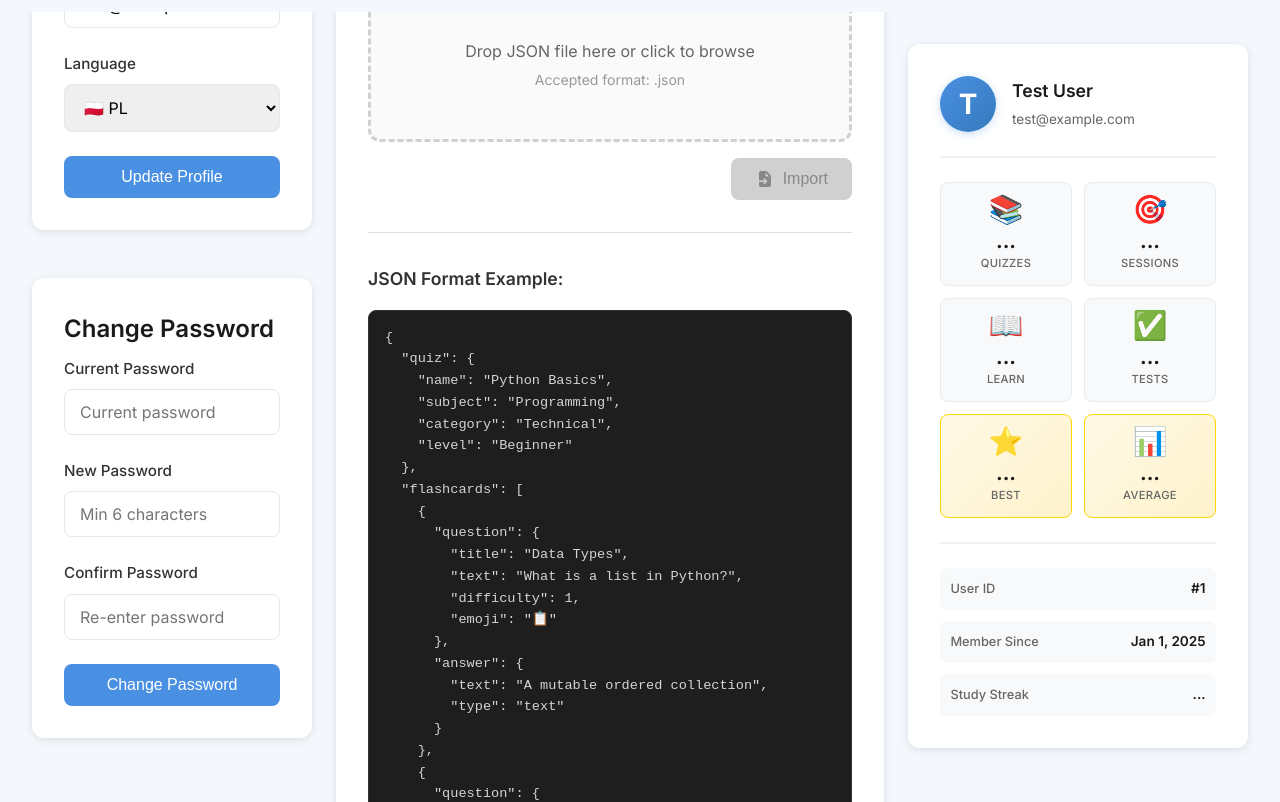
Test case: SettingsPage › validates password confirmation match
(page scrolled)
Type "old123" into the password field labelled "Current Password" at {"x": 172, "y": 412}, box x1=64 y1=389 x2=280 y2=435
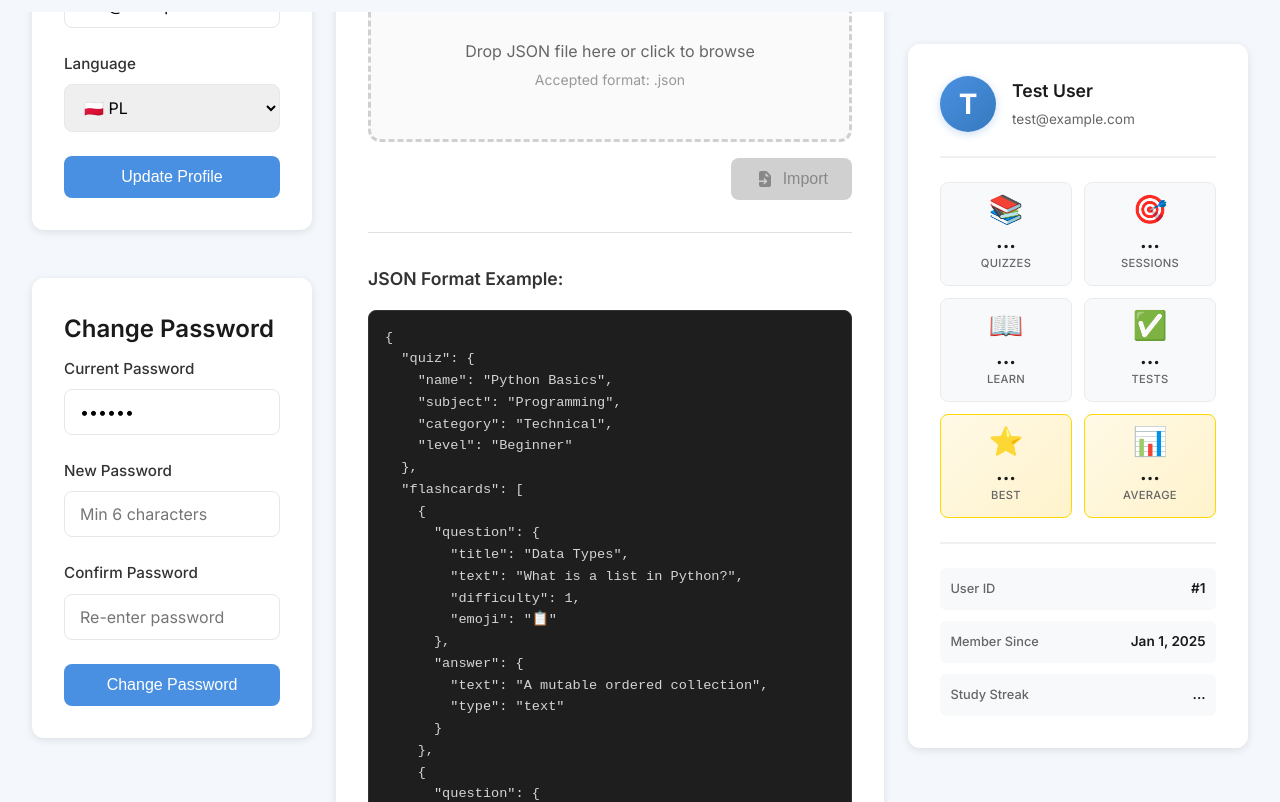
Type "newpassword123" into the password field labelled "New Password" at {"x": 172, "y": 514}, box x1=64 y1=491 x2=280 y2=537
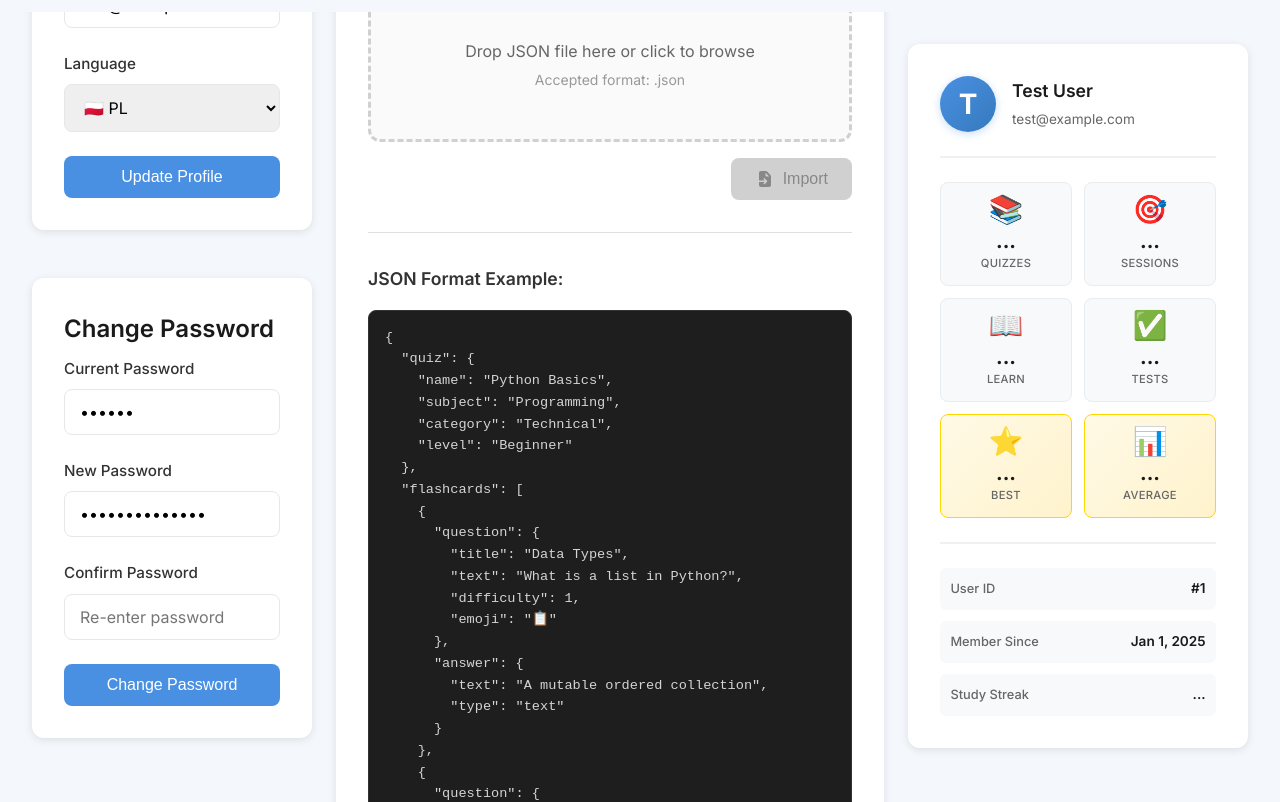
Type "differentpassword" into the password field labelled "Confirm Password" at {"x": 172, "y": 617}, box x1=64 y1=594 x2=280 y2=640
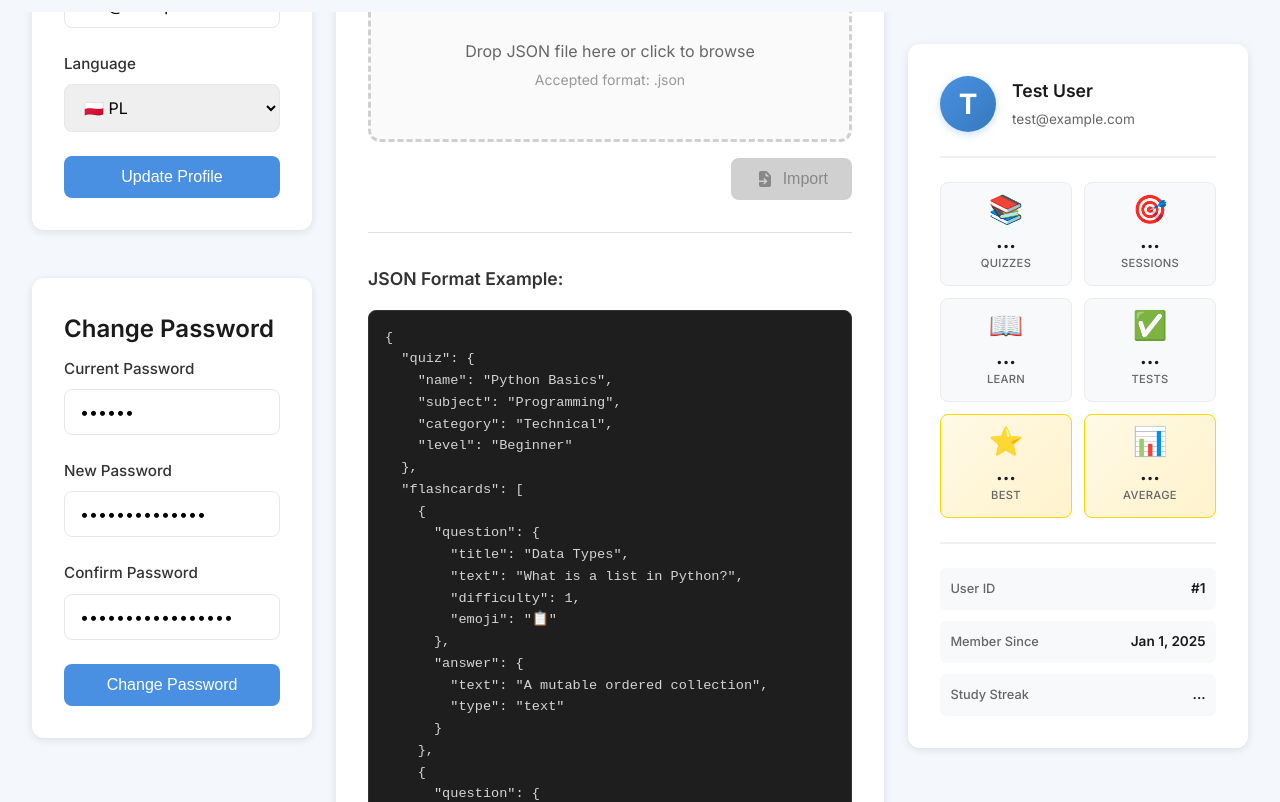
Click the button "Change Password" at {"x": 172, "y": 685}, box x1=64 y1=664 x2=280 y2=706
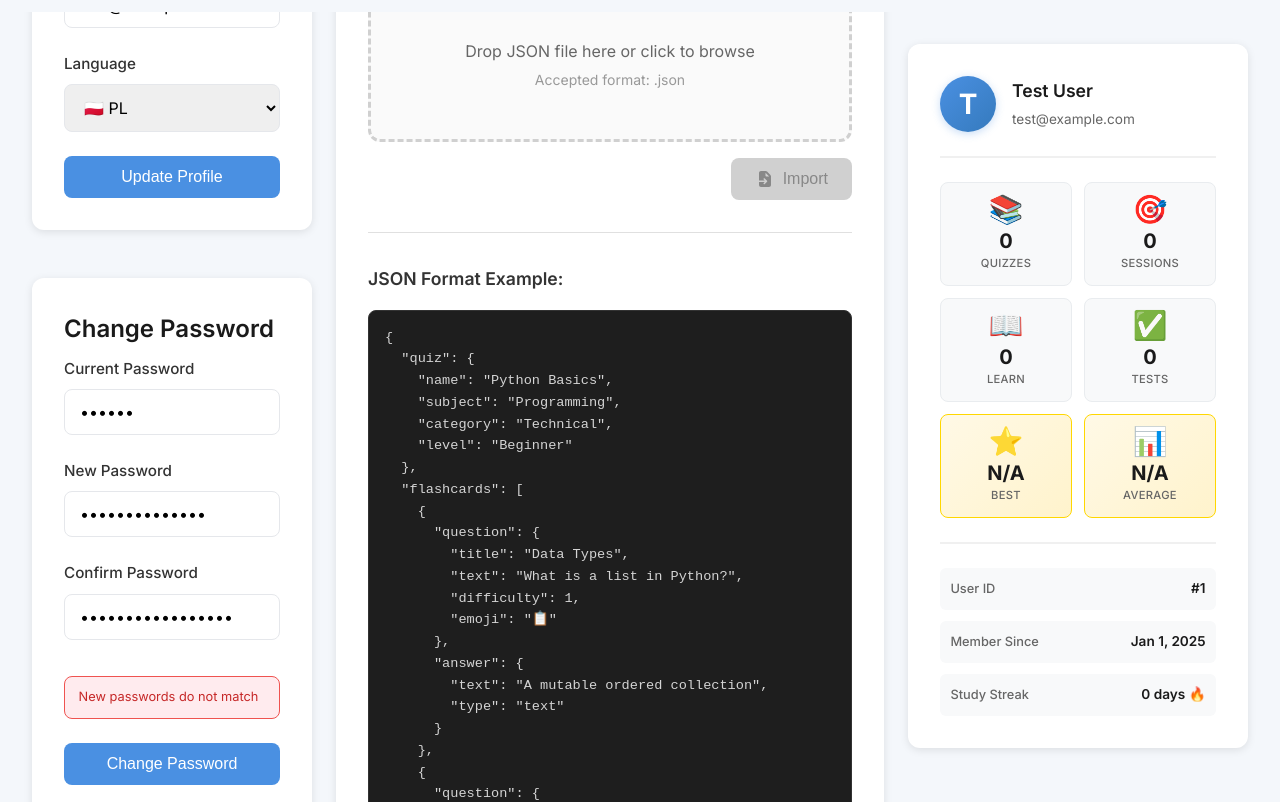
Expected: the text "New passwords do not match" is shown, x1=64 y1=676 x2=280 y2=719
